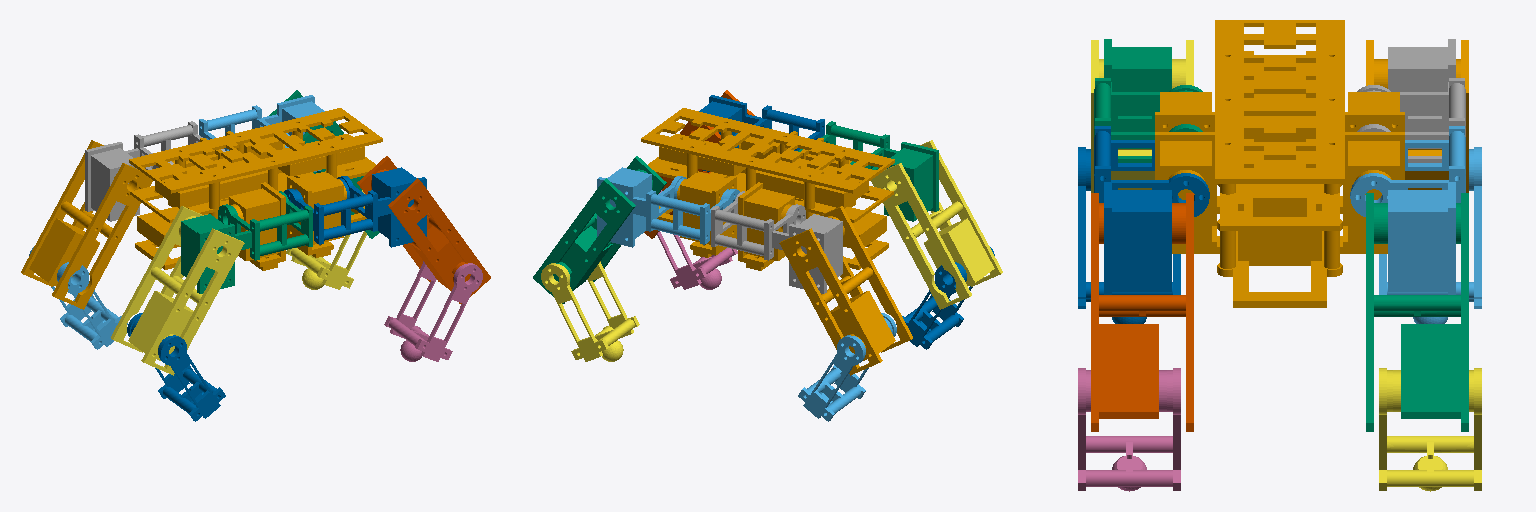
The robot description file, URDF, robot "microquad_xl330_v1":
<?xml version='1.0' encoding='utf-8'?>
<robot name="microquad_xl330_v1">
  <link name="trunk">
    <inertial>
      <origin xyz="-0.001866055275 3.322375373e-19 -0.007129704448" rpy="0 0 0" />
      <mass value="0.3027270000000001" />
      <inertia ixx="0.00019616630563338221" iyy="0.0003086090761809876" izz="0.00039997512120392424" ixy="-2.4851486705875544e-21" ixz="-9.036483534627585e-06" iyz="2.0268308676980805e-21" />
    </inertial>
    <visual>
      <geometry>
        <mesh filename="../meshes/trunk.stl" scale=".001 .001 .001" />
      </geometry>
    </visual>
  </link>
  <link name="FL_haa">
    <inertial>
      <origin xyz="0.0167231887 0.01440885314 -0.004145687934" rpy="0 0 0" />
      <mass value="0.037550999999999994" />
      <inertia ixx="8.537278037047847e-06" iyy="2.163923073155643e-05" izz="2.4228575069318563e-05" ixy="-3.824936419106813e-06" ixz="2.8452376208948594e-06" iyz="7.37318934155472e-07" />
    </inertial>
    <visual>
      <geometry>
        <mesh filename="../meshes/FL_haa.stl" scale=".001 .001 .001" />
      </geometry>
    </visual>
  </link>
  <link name="FL_thigh">
    <inertial>
      <origin xyz="4.139692064e-18 -0.005222979142 -0.03691657553" rpy="0 0 0" />
      <mass value="0.038507999999999994" />
      <inertia ixx="3.3606882685493e-05" iyy="2.9534689704197693e-05" izz="7.1140551355140615e-06" ixy="-1.1880000632768742e-21" ixz="3.770380603353045e-21" iyz="1.6621321040047016e-06" />
    </inertial>
    <visual>
      <geometry>
        <mesh filename="../meshes/FL_thigh.stl" scale=".001 .001 .001" />
      </geometry>
    </visual>
  </link>
  <link name="FL_calf">
    <inertial>
      <origin xyz="-1.658119621e-12 -0.007346335885 -0.01845891785" rpy="0 0 0" />
      <mass value="0.015952000000000004" />
      <inertia ixx="1.1230469128256474e-05" iyy="9.108277796533332e-06" izz="2.8521241512235843e-06" ixy="-6.808066610710886e-17" ixz="-9.414802005796836e-16" iyz="-2.660899168411519e-07" />
    </inertial>
    <visual>
      <geometry>
        <mesh filename="../meshes/FL_calf.stl" scale=".001 .001 .001" />
      </geometry>
    </visual>
  </link>
  <link name="FR_haa">
    <inertial>
      <origin xyz="0.0167231887 -0.01440885314 -0.004145687934" rpy="0 0 0" />
      <mass value="0.037550999999999994" />
      <inertia ixx="8.537278037047847e-06" iyy="2.163923073155643e-05" izz="2.422857506931856e-05" ixy="3.824936419106813e-06" ixz="2.845237620894858e-06" iyz="-7.373189341554729e-07" />
    </inertial>
    <visual>
      <geometry>
        <mesh filename="../meshes/FR_haa.stl" scale=".001 .001 .001" />
      </geometry>
    </visual>
  </link>
  <link name="FR_thigh">
    <inertial>
      <origin xyz="3.924971974e-18 0.005222979142 -0.03691657553" rpy="0 0 0" />
      <mass value="0.038507999999999994" />
      <inertia ixx="3.3606882685493006e-05" iyy="2.953468970419769e-05" izz="7.114055135514062e-06" ixy="1.0467435487613982e-21" ixz="4.158086768402869e-21" iyz="-1.662132104004702e-06" />
    </inertial>
    <visual>
      <geometry>
        <mesh filename="../meshes/FR_thigh.stl" scale=".001 .001 .001" />
      </geometry>
    </visual>
  </link>
  <link name="FR_calf">
    <inertial>
      <origin xyz="1.658122763e-12 0.007346335885 -0.01845891785" rpy="0 0 0" />
      <mass value="0.015952000000000004" />
      <inertia ixx="1.1230469128256477e-05" iyy="9.108277796533328e-06" izz="2.8521241512235843e-06" ixy="-6.808073317848089e-17" ixz="9.414818255340728e-16" iyz="2.660899168411558e-07" />
    </inertial>
    <visual>
      <geometry>
        <mesh filename="../meshes/FR_calf.stl" scale=".001 .001 .001" />
      </geometry>
    </visual>
  </link>
  <link name="RL_haa">
    <inertial>
      <origin xyz="-0.0167231887 0.01440885314 -0.004145687934" rpy="0 0 0" />
      <mass value="0.037550999999999994" />
      <inertia ixx="8.537278037047847e-06" iyy="2.1639230731556434e-05" izz="2.4228575069318563e-05" ixy="3.824936419106812e-06" ixz="-2.8452376208948585e-06" iyz="7.373189341554718e-07" />
    </inertial>
    <visual>
      <geometry>
        <mesh filename="../meshes/RL_haa.stl" scale=".001 .001 .001" />
      </geometry>
    </visual>
  </link>
  <link name="RL_thigh">
    <inertial>
      <origin xyz="1.456980466e-18 -0.005222979142 -0.03691657553" rpy="0 0 0" />
      <mass value="0.038507999999999994" />
      <inertia ixx="3.360688268549302e-05" iyy="2.953468970419771e-05" izz="7.1140551355140615e-06" ixy="1.6575379686637442e-22" ixz="1.1033659113248546e-21" iyz="1.6621321040047056e-06" />
    </inertial>
    <visual>
      <geometry>
        <mesh filename="../meshes/RL_thigh.stl" scale=".001 .001 .001" />
      </geometry>
    </visual>
  </link>
  <link name="RL_calf">
    <inertial>
      <origin xyz="-1.658128648e-12 -0.007346335885 -0.01845891785" rpy="0 0 0" />
      <mass value="0.015952000000000004" />
      <inertia ixx="1.1230469128256474e-05" iyy="9.108277796533327e-06" izz="2.852124151223585e-06" ixy="-6.808072300904911e-17" ixz="-9.414851646051104e-16" iyz="-2.6608991684115325e-07" />
    </inertial>
    <visual>
      <geometry>
        <mesh filename="../meshes/RL_calf.stl" scale=".001 .001 .001" />
      </geometry>
    </visual>
  </link>
  <link name="RR_haa">
    <inertial>
      <origin xyz="-0.0167231887 -0.01440885314 -0.004145687934" rpy="0 0 0" />
      <mass value="0.037550999999999994" />
      <inertia ixx="8.537278037047844e-06" iyy="2.163923073155643e-05" izz="2.4228575069318556e-05" ixy="-3.824936419106812e-06" ixz="-2.8452376208948594e-06" iyz="-7.373189341554732e-07" />
    </inertial>
    <visual>
      <geometry>
        <mesh filename="../meshes/RR_haa.stl" scale=".001 .001 .001" />
      </geometry>
    </visual>
  </link>
  <link name="RR_thigh">
    <inertial>
      <origin xyz="1.282722686e-18 0.005222979142 -0.03691657553" rpy="0 0 0" />
      <mass value="0.038507999999999994" />
      <inertia ixx="3.3606882685493026e-05" iyy="2.953468970419771e-05" izz="7.1140551355140615e-06" ixy="-2.9432416208468683e-22" ixz="1.2747857995565907e-21" iyz="-1.6621321040047022e-06" />
    </inertial>
    <visual>
      <geometry>
        <mesh filename="../meshes/RR_thigh.stl" scale=".001 .001 .001" />
      </geometry>
    </visual>
  </link>
  <link name="RR_calf">
    <inertial>
      <origin xyz="1.658112339e-12 0.007346335885 -0.01845891785" rpy="0 0 0" />
      <mass value="0.015952000000000004" />
      <inertia ixx="1.123046912825647e-05" iyy="9.108277796533327e-06" izz="2.8521241512235843e-06" ixy="-6.808035937018225e-17" ixz="9.414774040449653e-16" iyz="2.660899168411551e-07" />
    </inertial>
    <visual>
      <geometry>
        <mesh filename="../meshes/RR_calf.stl" scale=".001 .001 .001" />
      </geometry>
    </visual>
  </link>
  <joint name="FL_HAA" type="revolute">
    <parent link="trunk" />
    <child link="FL_haa" />
    <origin xyz="0.03 0.036 0" rpy="0 0 0" />
    <axis xyz="1 0 0" />
    <limit lower="-0.3" upper="0.3" effort=".52" velocity="10.786134777324955" />
  </joint>
  <joint name="FL_HFE" type="revolute">
    <parent link="FL_haa" />
    <child link="FL_thigh" />
    <origin xyz="0.035 0.025 0" rpy="0 0 0" />
    <axis xyz="0 -1 0" />
    <limit lower="0.15" upper="1" effort=".52" velocity="10.786134777324955" />
  </joint>
  <joint name="FL_KFE" type="revolute">
    <parent link="FL_thigh" />
    <child link="FL_calf" />
    <origin xyz="0 0.005 -0.065" rpy="0 0 0" />
    <axis xyz="0 -1 0" />
    <limit lower="-1.8" upper="-0.4" effort=".52" velocity="10.786134777324955" />
  </joint>
  <joint name="FR_HAA" type="revolute">
    <parent link="trunk" />
    <child link="FR_haa" />
    <origin xyz="0.03 -0.036 0" rpy="0 0 0" />
    <axis xyz="1 0 0" />
    <limit lower="-0.3" upper="0.3" effort=".52" velocity="10.786134777324955" />
  </joint>
  <joint name="FR_HFE" type="revolute">
    <parent link="FR_haa" />
    <child link="FR_thigh" />
    <origin xyz="0.035 -0.025 0" rpy="0 0 0" />
    <axis xyz="0 -1 0" />
    <limit lower="0.15" upper="1" effort=".52" velocity="10.786134777324955" />
  </joint>
  <joint name="FR_KFE" type="revolute">
    <parent link="FR_thigh" />
    <child link="FR_calf" />
    <origin xyz="0 -0.005 -0.065" rpy="0 0 0" />
    <axis xyz="0 -1 0" />
    <limit lower="-1.8" upper="-0.4" effort=".52" velocity="10.786134777324955" />
  </joint>
  <joint name="RL_HAA" type="revolute">
    <parent link="trunk" />
    <child link="RL_haa" />
    <origin xyz="-0.03 0.036 0" rpy="0 0 0" />
    <axis xyz="1 0 0" />
    <limit lower="-0.3" upper="0.3" effort=".52" velocity="10.786134777324955" />
  </joint>
  <joint name="RL_HFE" type="revolute">
    <parent link="RL_haa" />
    <child link="RL_thigh" />
    <origin xyz="-0.035 0.025 0" rpy="0 0 0" />
    <axis xyz="0 1 0" />
    <limit lower="0.15" upper="1" effort=".52" velocity="10.786134777324955" />
  </joint>
  <joint name="RL_KFE" type="revolute">
    <parent link="RL_thigh" />
    <child link="RL_calf" />
    <origin xyz="0 0.005 -0.065" rpy="0 0 0" />
    <axis xyz="0 1 0" />
    <limit lower="-1.8" upper="-0.4" effort=".52" velocity="10.786134777324955" />
  </joint>
  <joint name="RR_HAA" type="revolute">
    <parent link="trunk" />
    <child link="RR_haa" />
    <origin xyz="-0.03 -0.036 0" rpy="0 0 0" />
    <axis xyz="1 0 0" />
    <limit lower="-0.3" upper="0.3" effort=".52" velocity="10.786134777324955" />
  </joint>
  <joint name="RR_HFE" type="revolute">
    <parent link="RR_haa" />
    <child link="RR_thigh" />
    <origin xyz="-0.035 -0.025 0" rpy="0 0 0" />
    <axis xyz="0 1 0" />
    <limit lower="0.15" upper="1" effort=".52" velocity="10.786134777324955" />
  </joint>
  <joint name="RR_KFE" type="revolute">
    <parent link="RR_thigh" />
    <child link="RR_calf" />
    <origin xyz="0 -0.005 -0.065" rpy="0 0 0" />
    <axis xyz="0 1 0" />
    <limit lower="-1.8" upper="-0.4" effort=".52" velocity="10.786134777324955" />
  </joint>
</robot>

--- Render facts (derived) ---
The picture shows the robot from 3 angles, left to right: view 1: azimuth 30°, elevation 25°; view 2: azimuth 150°, elevation 25°; view 3: azimuth 270°, elevation 25°; orthographic projection.
Robot: microquad_xl330_v1 — 13 links, 12 joints (12 revolute); root link trunk; default pose: all joints at 0 but 8 set to mid-range because 0 is outside their limits (FL_HFE = 0.575, FL_KFE = -1.1, FR_HFE = 0.575, FR_KFE = -1.1, RL_HFE = 0.575, RL_KFE = -1.1, +2 more).
Links seen in each view (by area): view 1: trunk, RR_thigh, RL_thigh, FR_thigh, RR_haa, FR_haa, FR_calf, RL_haa, RR_calf, RL_calf, FL_haa, FL_calf (+1 smaller); view 2: trunk, RL_thigh, RR_thigh, FL_thigh, RL_haa, FL_haa, FL_calf, RR_haa, RL_calf, RR_calf, FR_haa, FR_calf (+1 smaller); view 3: trunk, FL_thigh, FR_thigh, FL_haa, FR_haa, RL_haa, RR_haa, FL_calf, FR_calf, RL_calf, RR_calf, RL_thigh (+1 smaller).
Boxes of the visible links, x1=… form: trunk: x1=129, y1=108, x2=382, y2=270; RR_thigh: x1=111, y1=206, x2=244, y2=375; RL_thigh: x1=21, y1=140, x2=152, y2=309; FR_thigh: x1=357, y1=156, x2=490, y2=303; RR_haa: x1=181, y1=191, x2=312, y2=293; FR_haa: x1=284, y1=167, x2=426, y2=247; FR_calf: x1=384, y1=261, x2=482, y2=361; RL_haa: x1=85, y1=121, x2=225, y2=221; RR_calf: x1=127, y1=313, x2=225, y2=421; RL_calf: x1=29, y1=247, x2=127, y2=349; FL_haa: x1=199, y1=95, x2=324, y2=171; FL_calf: x1=286, y1=190, x2=366, y2=289; trunk: x1=641, y1=108, x2=894, y2=270; RL_thigh: x1=779, y1=206, x2=912, y2=375; RR_thigh: x1=871, y1=140, x2=1002, y2=309; FL_thigh: x1=533, y1=156, x2=666, y2=303; RL_haa: x1=711, y1=191, x2=842, y2=293; FL_haa: x1=597, y1=167, x2=739, y2=247; FL_calf: x1=541, y1=261, x2=639, y2=361; RR_haa: x1=798, y1=121, x2=938, y2=221; RL_calf: x1=798, y1=313, x2=896, y2=421; RR_calf: x1=896, y1=247, x2=994, y2=349; FR_haa: x1=699, y1=95, x2=824, y2=171; FR_calf: x1=657, y1=190, x2=737, y2=289; trunk: x1=1155, y1=20, x2=1404, y2=307; FL_thigh: x1=1366, y1=193, x2=1468, y2=431; FR_thigh: x1=1091, y1=193, x2=1193, y2=431; FL_haa: x1=1350, y1=126, x2=1465, y2=294; FR_haa: x1=1094, y1=126, x2=1209, y2=294; RL_haa: x1=1357, y1=39, x2=1465, y2=162; RR_haa: x1=1094, y1=39, x2=1202, y2=162; FL_calf: x1=1379, y1=368, x2=1481, y2=491; FR_calf: x1=1078, y1=368, x2=1180, y2=491; RL_calf: x1=1379, y1=147, x2=1481, y2=323; RR_calf: x1=1078, y1=147, x2=1180, y2=323; RL_thigh: x1=1366, y1=40, x2=1468, y2=192.
Bounding box of the posed robot: 0.2361 × 0.155 × 0.1311 m (x, y, z).
Meshes: 13 distinct files referenced, 13 mesh visuals loaded (13 binary STL).
